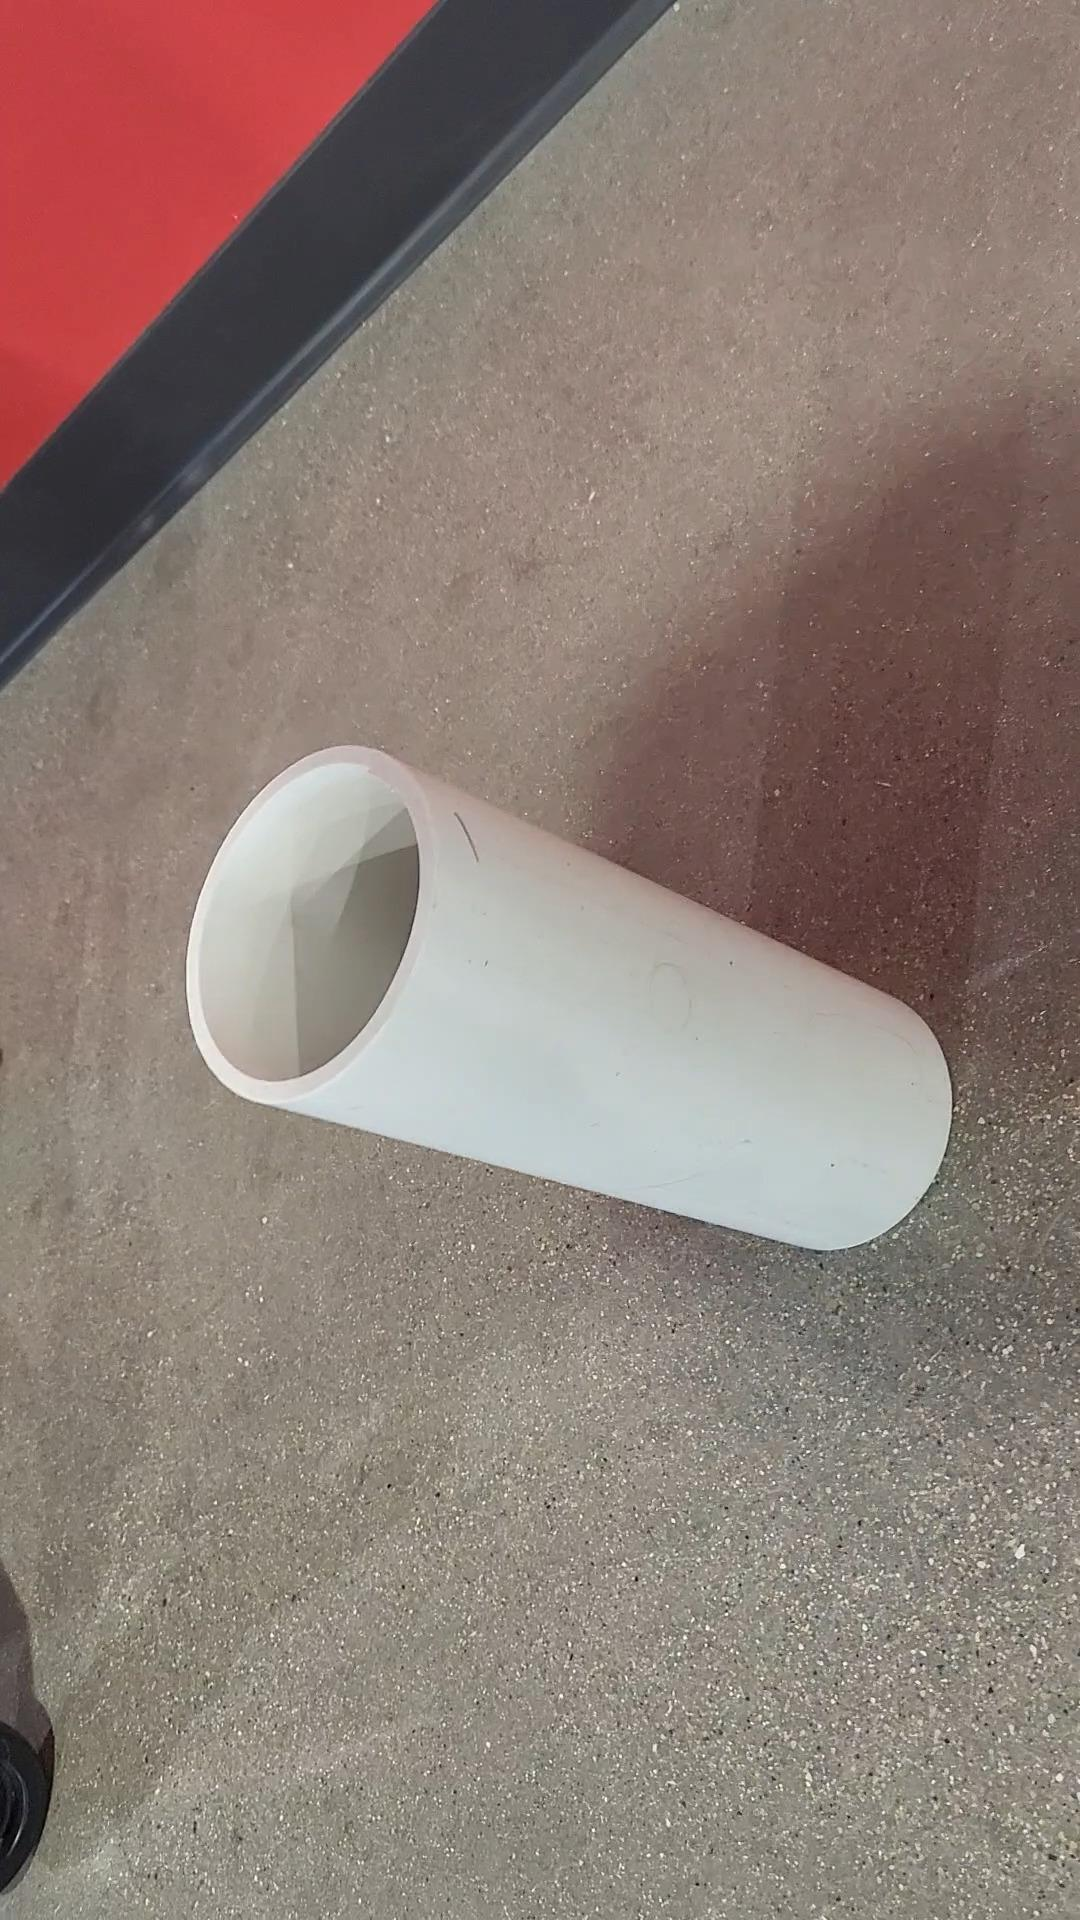coral: (187, 737, 960, 1258)
